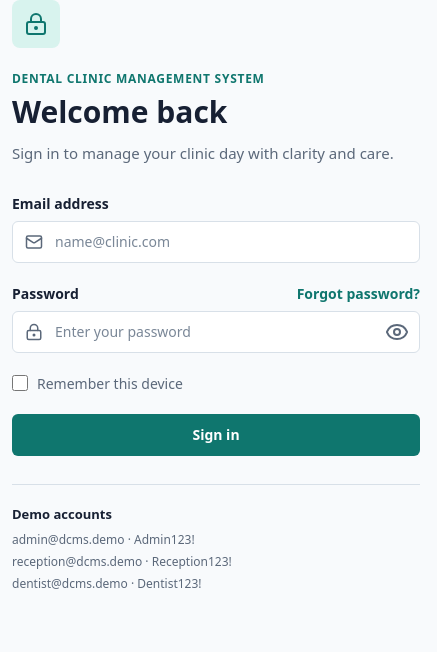
Scenario: AUTH-01 & AUTH-02: Authentication & Login Form Validation › TEST-AUTH-01: displays error when submitting with empty credentials
The width and height of the screenshot is (437, 652).
Step 1. Click the button "Sign in" → (216, 434), box [12,414,420,456]
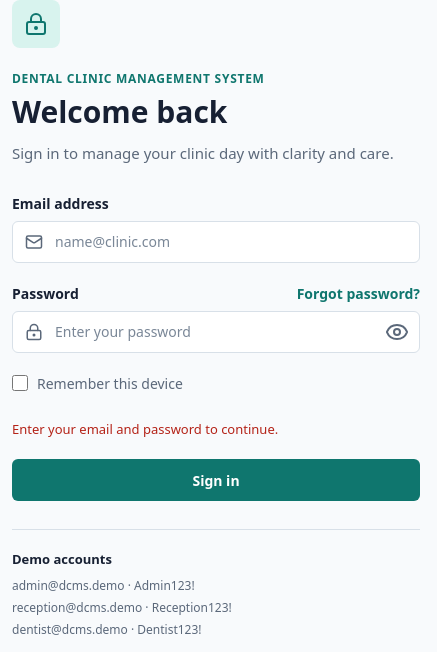
Check: the text "Enter your email and password to continue." is shown, box [12,420,278,438]
